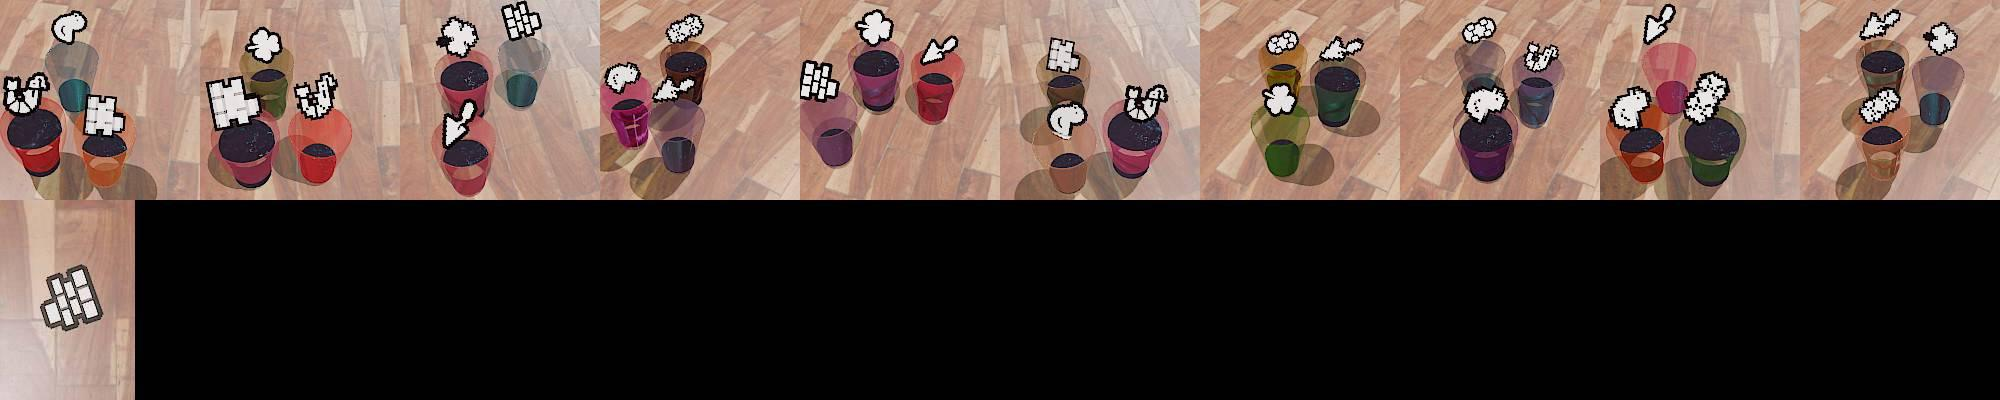icon: (39, 264, 105, 332), (206, 74, 264, 130), (1682, 70, 1730, 122), (294, 71, 340, 120), (1, 71, 49, 117), (1608, 85, 1654, 131), (1462, 82, 1509, 122), (442, 98, 479, 148), (437, 15, 479, 59), (1123, 82, 1168, 123), (500, 0, 543, 42), (84, 93, 125, 137), (799, 59, 839, 102), (1858, 86, 1902, 124), (1047, 101, 1088, 140), (244, 26, 284, 64), (854, 9, 895, 46), (1643, 3, 1677, 45), (1858, 8, 1901, 40), (1318, 34, 1363, 64), (651, 74, 697, 103), (50, 10, 88, 45), (665, 13, 706, 45), (1261, 81, 1297, 117), (1045, 36, 1080, 73), (602, 61, 642, 93), (1923, 20, 1958, 56), (919, 34, 959, 65), (1521, 40, 1559, 72), (1462, 17, 1497, 45), (1266, 29, 1299, 55)
